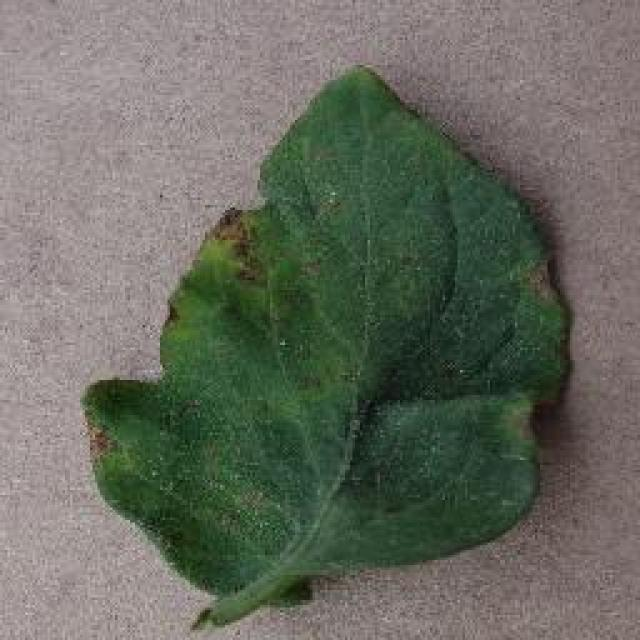Tom_Bacterial_spot: (200, 159, 356, 309), (67, 402, 136, 472), (507, 248, 568, 322)
